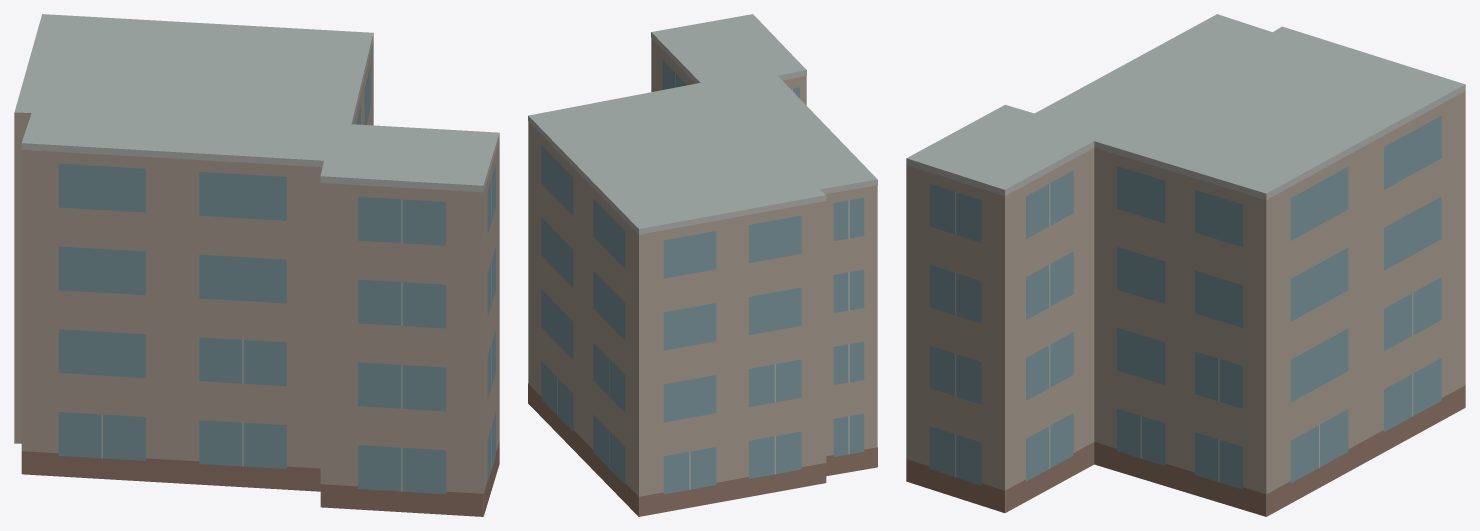
File: survey-upis-32604010.glb
The picture shows the model from 3 angles, left to right: view 1: azimuth 30°, elevation 25°; view 2: azimuth 150°, elevation 25°; view 3: azimuth 270°, elevation 25°; orthographic projection. The views are drawn at different scales.
Parts seen in each view (by area): view 1: survey-upis-32604010.tmp; view 2: survey-upis-32604010.tmp; view 3: survey-upis-32604010.tmp.
Part boxes in pixels (x1=…): survey-upis-32604010.tmp: x1=14, y1=14, x2=499, y2=516; survey-upis-32604010.tmp: x1=528, y1=14, x2=877, y2=516; survey-upis-32604010.tmp: x1=906, y1=14, x2=1465, y2=516.
Bounding box in the file's own units: 14.55 × 12.2 × 19.13.
